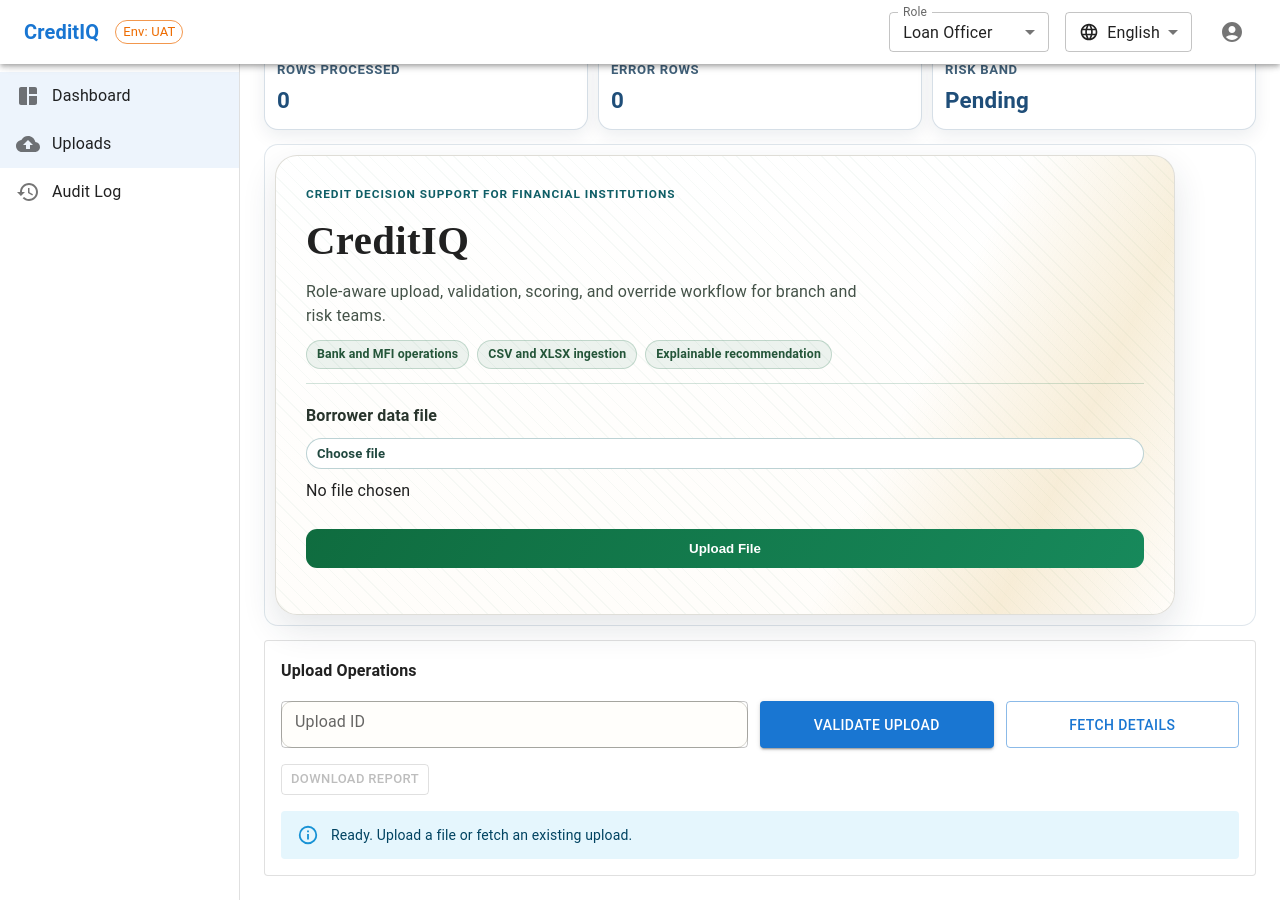
it: App recommendation summary › shows an API error message when fetch details fails
(page scrolled)
Type "missing_upload" into the field labelled "Upload ID" at (514, 725), box x1=281 y1=701 x2=748 y2=748
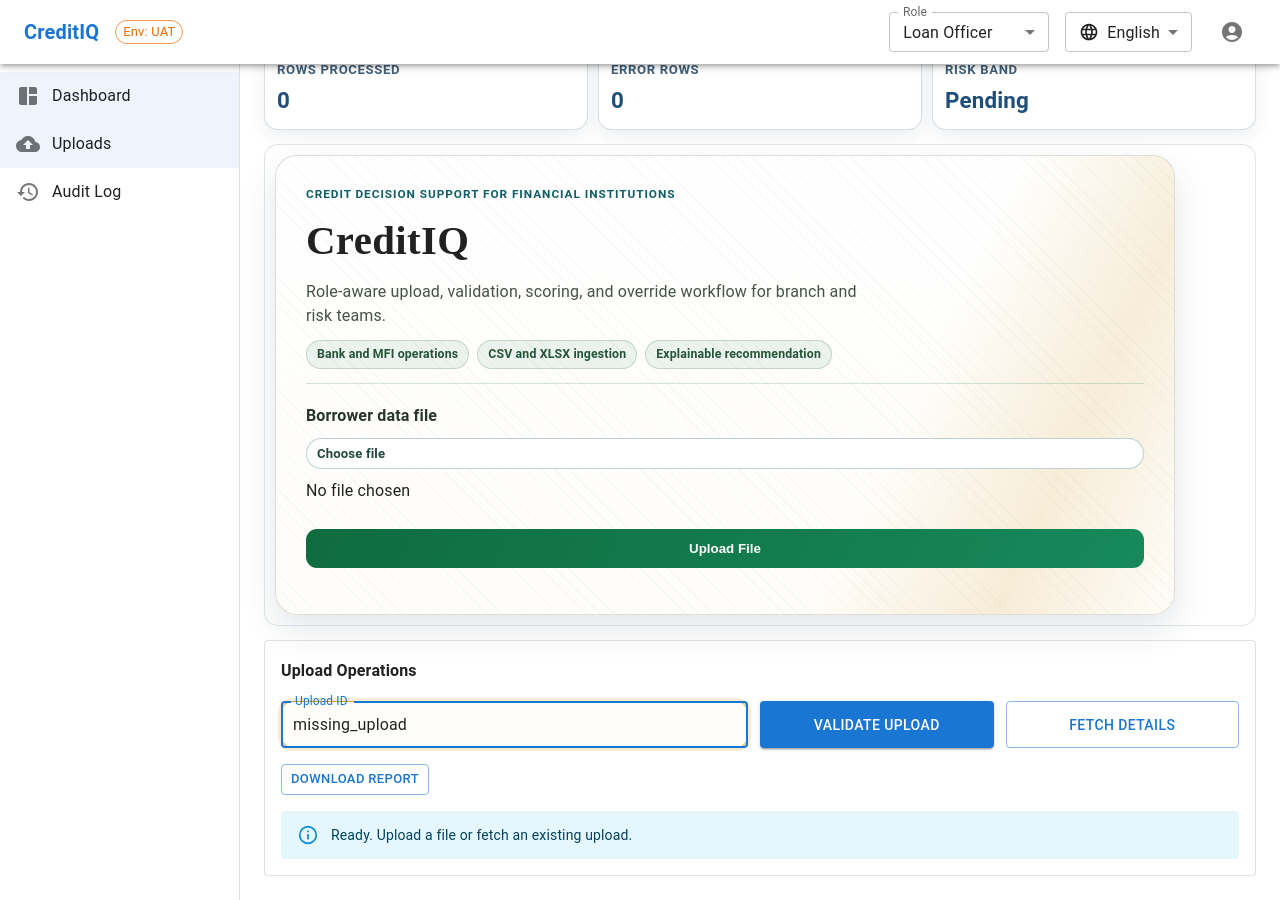
Click the button "Fetch Details" at (1122, 725), box x1=1006 y1=701 x2=1239 y2=748
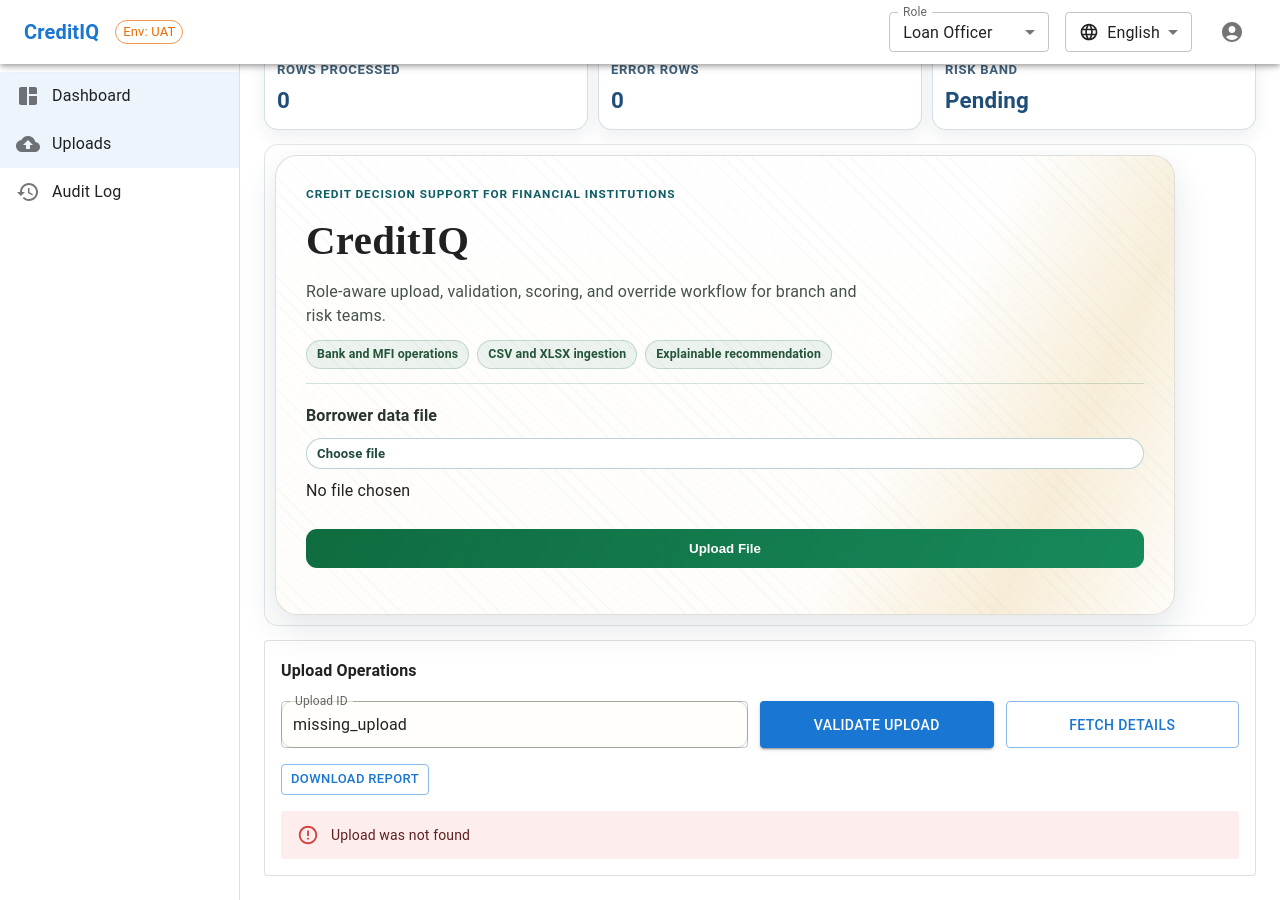
expect the text "Upload was not found" is shown: met, box x1=331 y1=827 x2=470 y2=843
